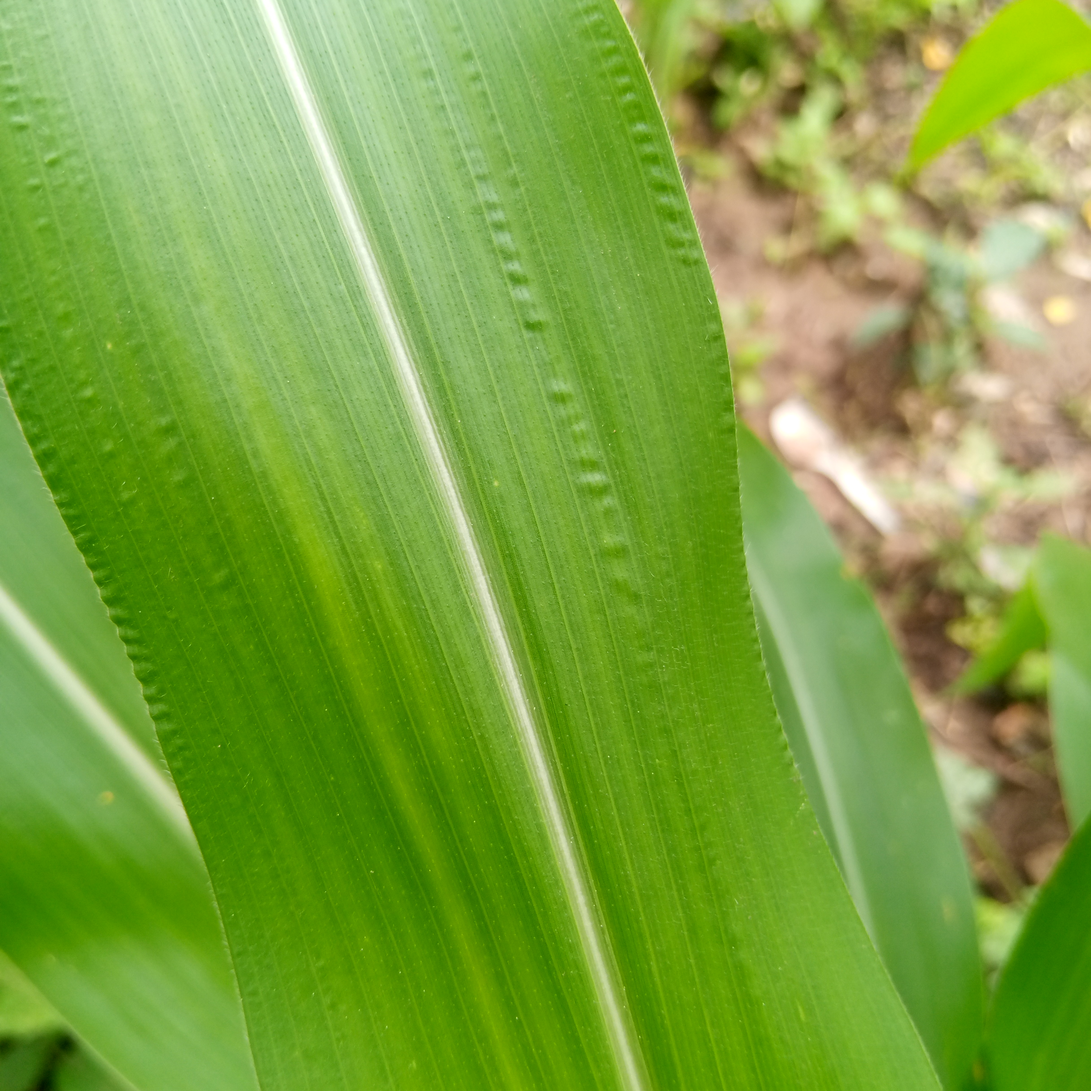healthy: (55, 129, 667, 984)
